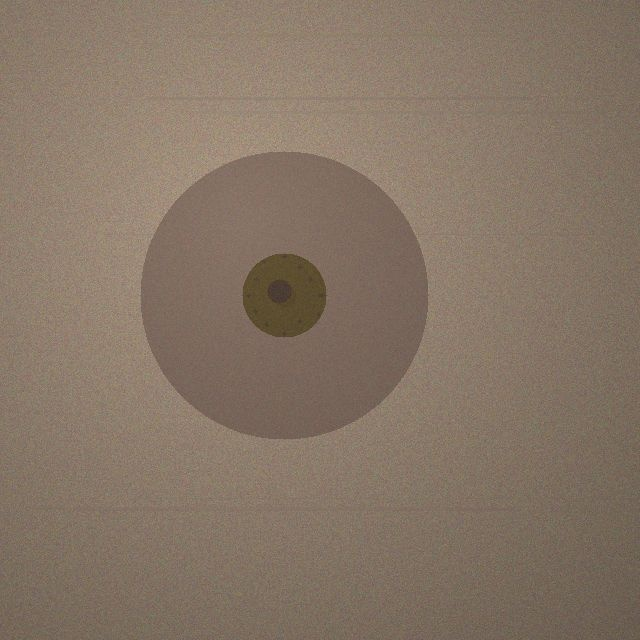cold_weld: (140, 151, 428, 439)
